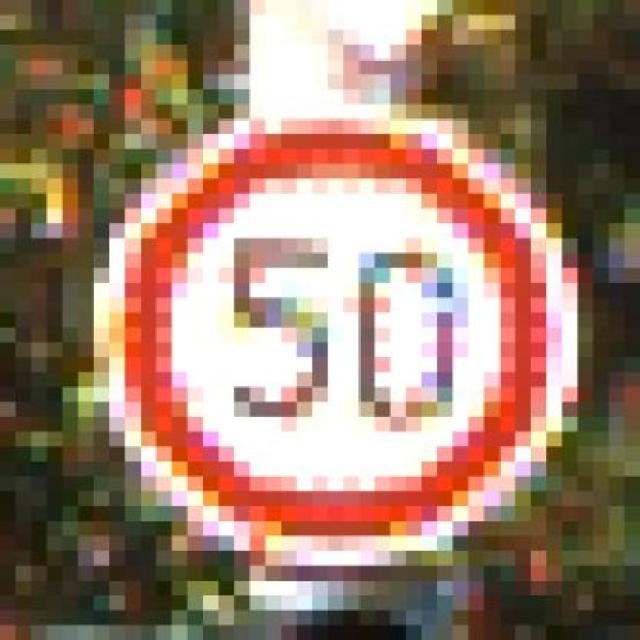50 mph speed limit: (62, 89, 608, 580)
